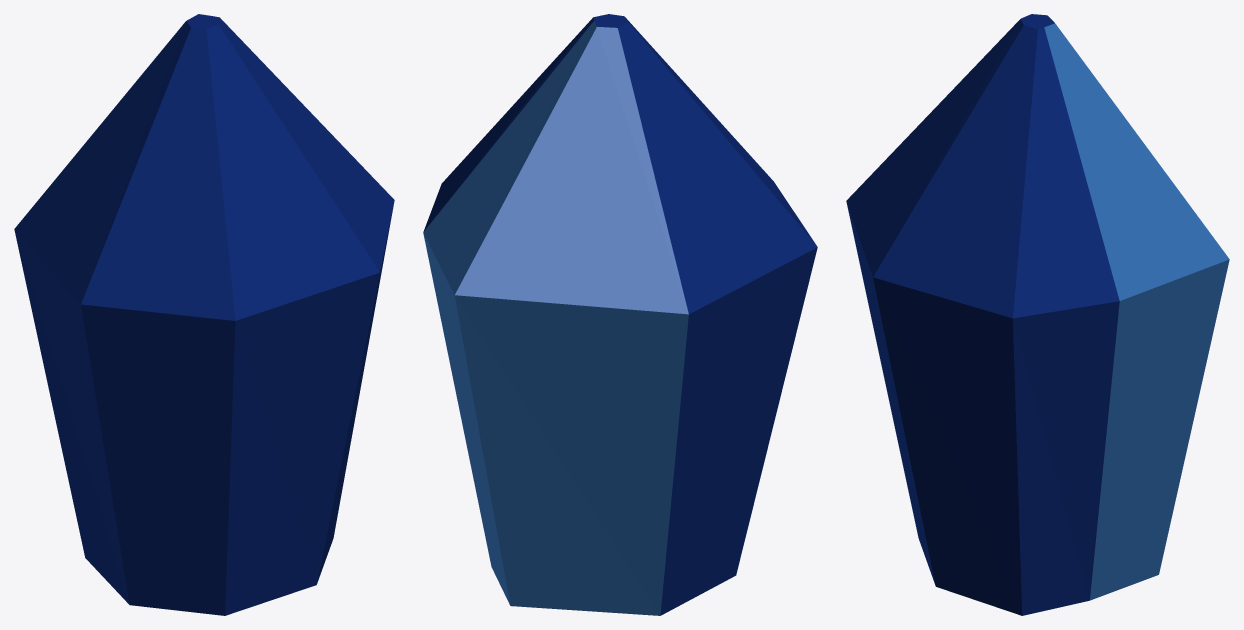
The model's file is obj_giant_crystal_0.obj.
The picture shows the model from 3 angles, left to right: view 1: azimuth 30°, elevation 25°; view 2: azimuth 150°, elevation 25°; view 3: azimuth 270°, elevation 25°; orthographic projection. The views are drawn at different scales.
Size of the model in its own units: 1.95 by 2.94 by 1.91.
